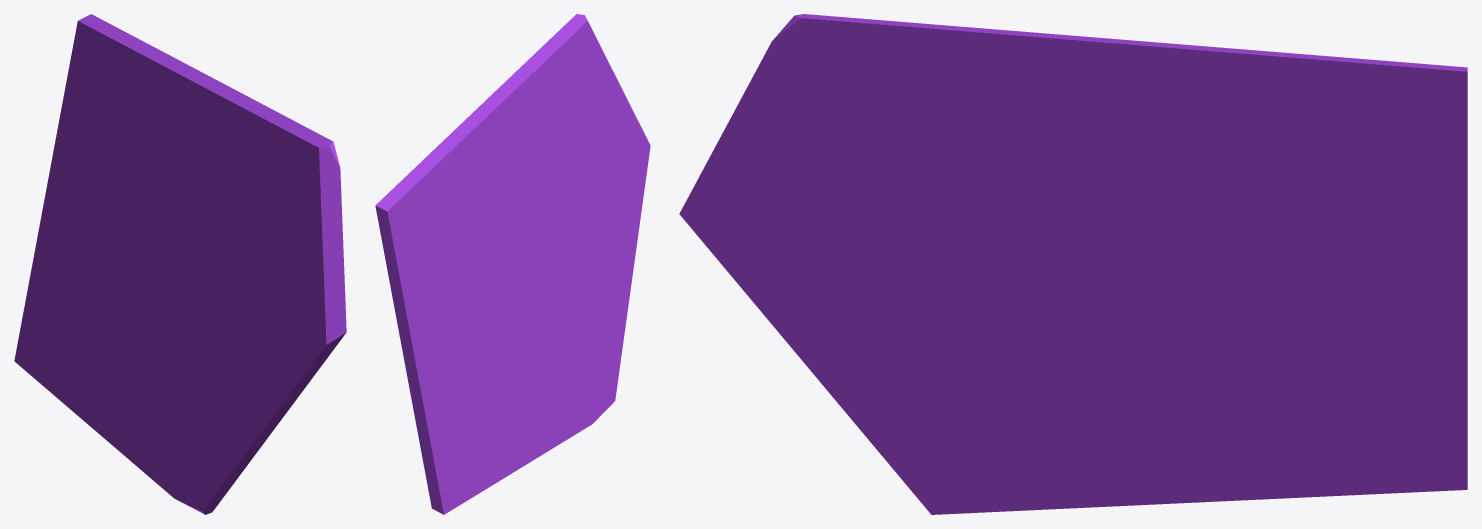
File: Window_2_6_chunks.fbx
The picture shows the model from 3 angles, left to right: view 1: azimuth 30°, elevation 25°; view 2: azimuth 150°, elevation 25°; view 3: azimuth 270°, elevation 25°; orthographic projection. The views are drawn at different scales.
Visible parts, largest first — view 1: Window_2_6_1, Window_2_6_10, Window_2_6_4, Window_2_6_2, Window_2_6_6, Window_2_6_8, Window_2_6_5, Window_2_6_9, Window_2_6_15, Window_2_6_17, Window_2_6_20, Window_2_6_21 (+8 smaller); view 2: Window_2_6_10, Window_2_6_1, Window_2_6_4, Window_2_6_8, Window_2_6_6, Window_2_6_14, Window_2_6_5, Window_2_6_9, Window_2_6_15, Window_2_6_11, Window_2_6_17, Window_2_6_21 (+8 smaller); view 3: Window_2_6_5, Window_2_6_8, Window_2_6_2, Window_2_6_1, Window_2_6_4, Window_2_6_9, Window_2_6_0, Window_2_6_6, Window_2_6_12, Window_2_6_14, Window_2_6_20, Window_2_6_16 (+8 smaller).
Part boxes in pixels (<box>): Window_2_6_1: <box>207,238,310,419</box>; Window_2_6_10: <box>14,225,126,385</box>; Window_2_6_4: <box>216,111,335,254</box>; Window_2_6_2: <box>281,152,346,379</box>; Window_2_6_6: <box>145,402,273,514</box>; Window_2_6_8: <box>164,294,284,430</box>; Window_2_6_5: <box>43,338,152,472</box>; Window_2_6_9: <box>82,248,209,363</box>; Window_2_6_15: <box>90,53,169,229</box>; Window_2_6_17: <box>158,160,223,277</box>; Window_2_6_20: <box>154,92,231,190</box>; Window_2_6_21: <box>113,31,232,119</box>; Window_2_6_10: <box>429,303,490,514</box>; Window_2_6_1: <box>544,148,643,260</box>; Window_2_6_4: <box>530,14,587,199</box>; Window_2_6_8: <box>533,248,634,344</box>; Window_2_6_6: <box>565,276,632,440</box>; Window_2_6_14: <box>389,279,445,491</box>; Window_2_6_5: <box>471,369,565,498</box>; Window_2_6_9: <box>487,235,554,438</box>; Window_2_6_15: <box>406,218,503,304</box>; Window_2_6_11: <box>375,197,451,306</box>; Window_2_6_17: <box>499,139,551,280</box>; Window_2_6_21: <box>402,93,504,185</box>; Window_2_6_5: <box>1021,330,1380,508</box>; Window_2_6_8: <box>795,273,1118,407</box>; Window_2_6_2: <box>679,22,863,292</box>; Window_2_6_1: <box>746,181,989,351</box>; Window_2_6_4: <box>788,14,991,201</box>; Window_2_6_9: <box>1027,251,1323,457</box>; Window_2_6_0: <box>939,29,1078,273</box>; Window_2_6_6: <box>816,377,1071,514</box>; Window_2_6_12: <box>1243,210,1408,427</box>; Window_2_6_14: <box>1380,173,1467,467</box>; Window_2_6_20: <box>1053,34,1221,192</box>; Window_2_6_16: <box>1142,173,1321,282</box>.
Bounding box in the file's own units: 187 × 781 × 1012.
